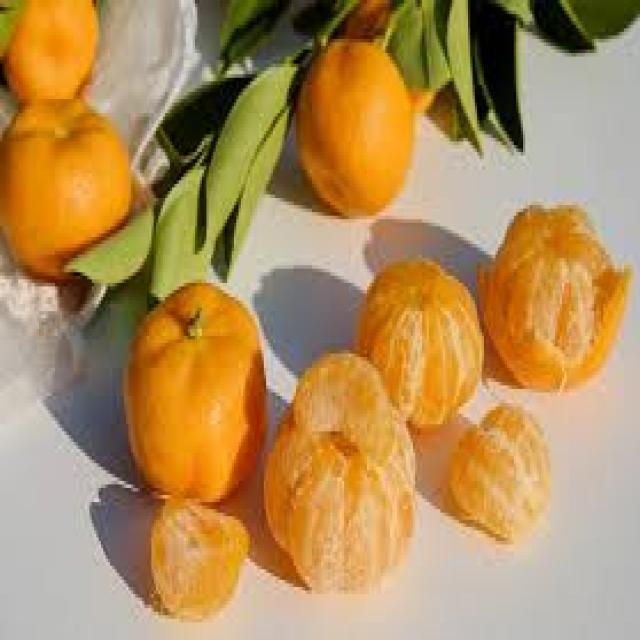Orange: (262, 350, 418, 591), (121, 279, 266, 502), (479, 202, 631, 392), (0, 95, 131, 283), (356, 254, 484, 432), (291, 35, 413, 216), (442, 399, 550, 542), (149, 495, 250, 619), (2, 0, 99, 103)
